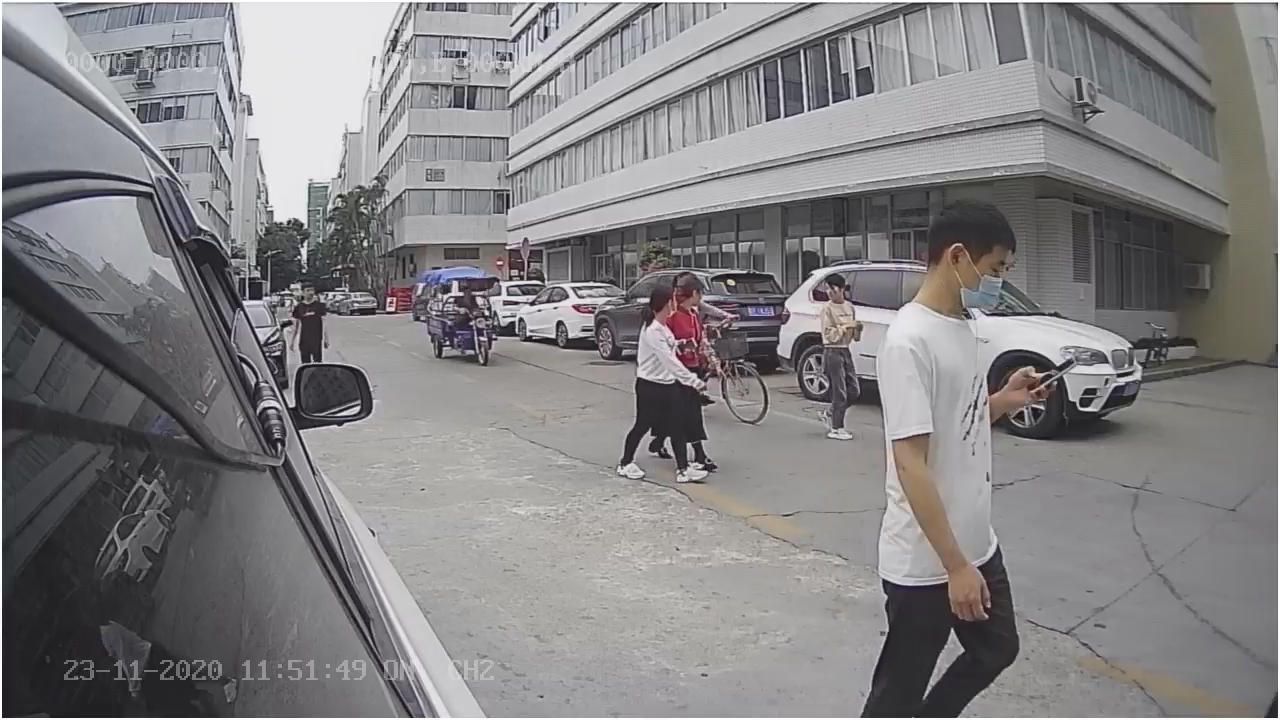person: (610, 283, 712, 487)
